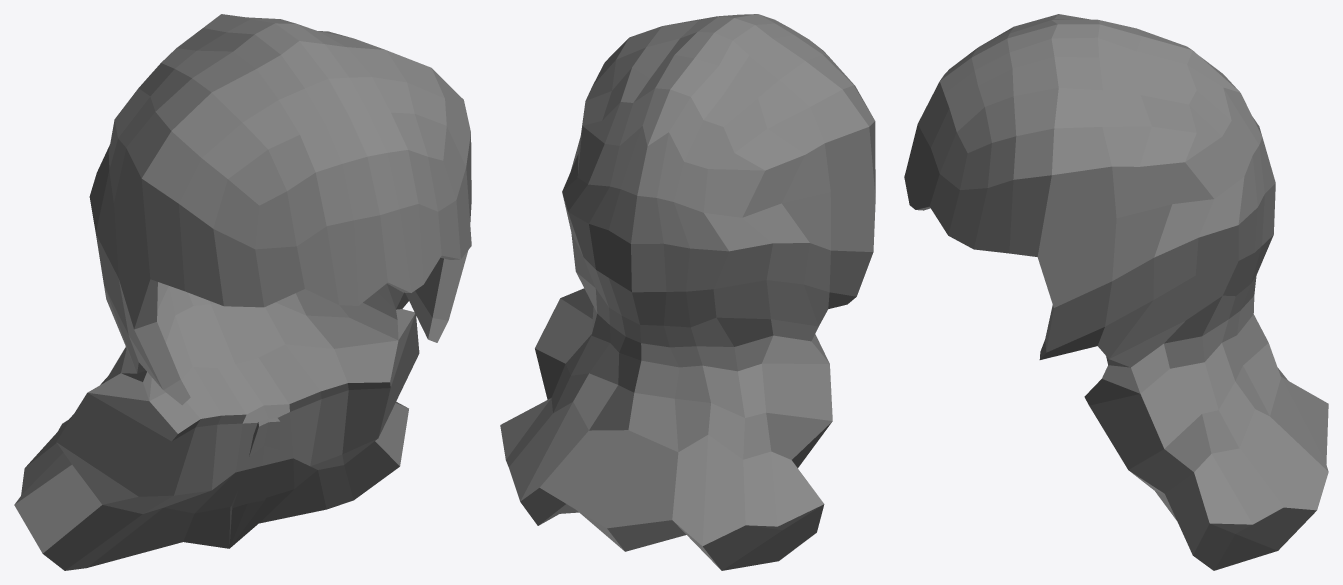
Rendered from hair_curly.fbx.
3 views of the same model, side by side, from view 1: azimuth 30°, elevation 25°; view 2: azimuth 150°, elevation 25°; view 3: azimuth 270°, elevation 25° (orthographic). The views are drawn at different scales.
Parts seen in each view (by area): view 1: Curly; view 2: Curly; view 3: Curly.
Boxes of the visible parts, x1,y1,x2,y2 form: Curly: [14, 14, 471, 570]; Curly: [500, 14, 875, 570]; Curly: [904, 14, 1328, 570].
Bounding box in the file's own units: 87.7 × 120 × 94.21.
